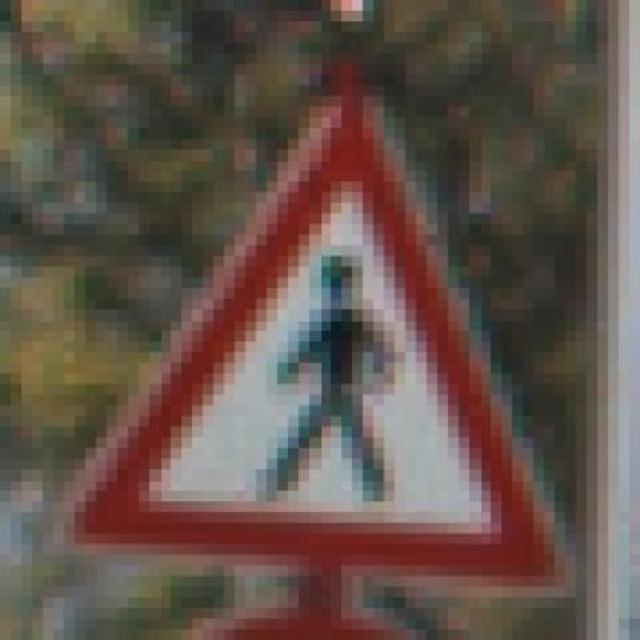Pedestrian Crossing: (53, 31, 598, 598)
